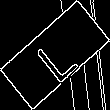L_NW: (28, 26, 82, 84)
